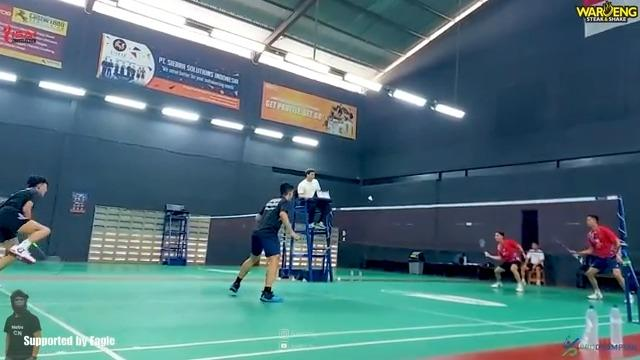Shuttlecock: (365, 192, 375, 205)
